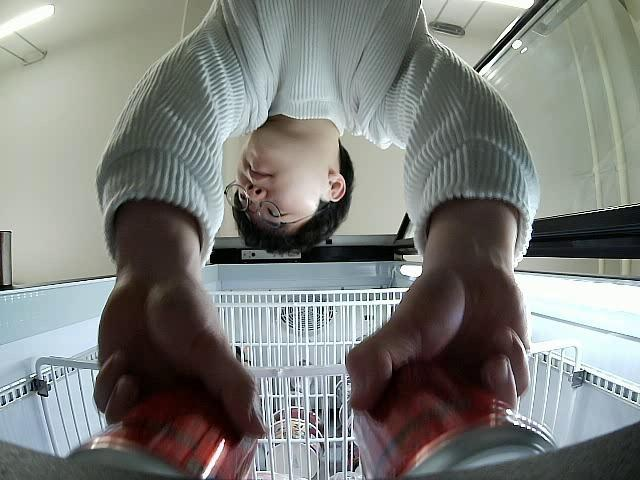11_cocaColaZero: (348, 361, 556, 480), (66, 391, 258, 480)
